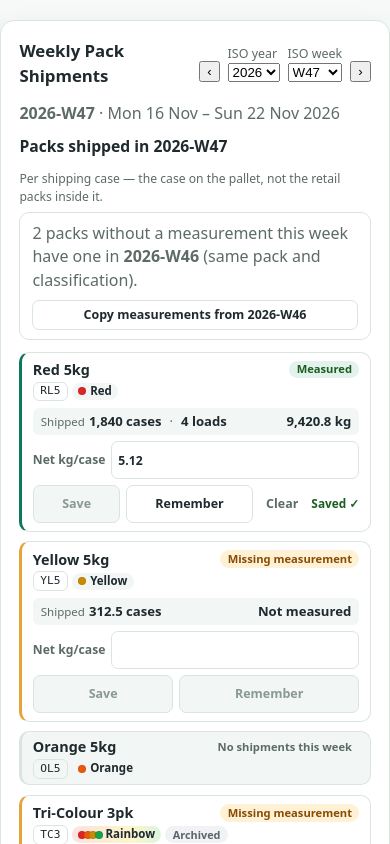
it: Weekly Pack Shipments › copying a previous week's measurements is an explicit action that names the source week
This screenshot has width=390, height=844.
Check: the heading "Red 5kg" is shown, box [33, 360, 90, 379]
Check: the text "2 packs without a measurement this week have one in" shows "2026-W46", box [124, 245, 199, 267]
Step 1. Click the button "Copy measurements from 2026-W46" → [195, 315], box [32, 300, 358, 330]
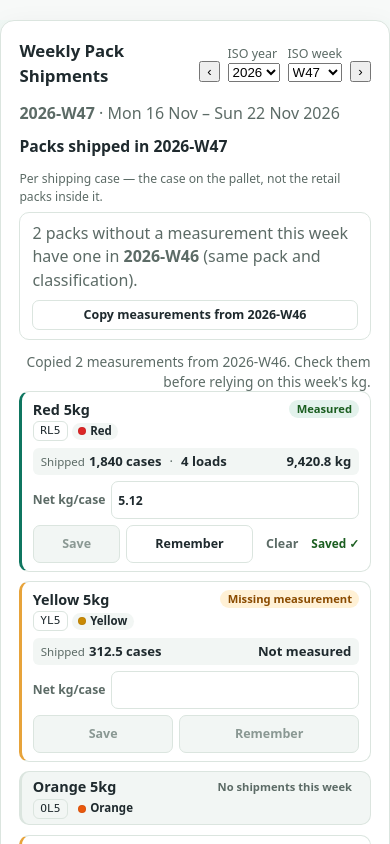
Check: the text "Copied 2 measurements from 2026-W46" is shown, box [26, 352, 371, 391]
